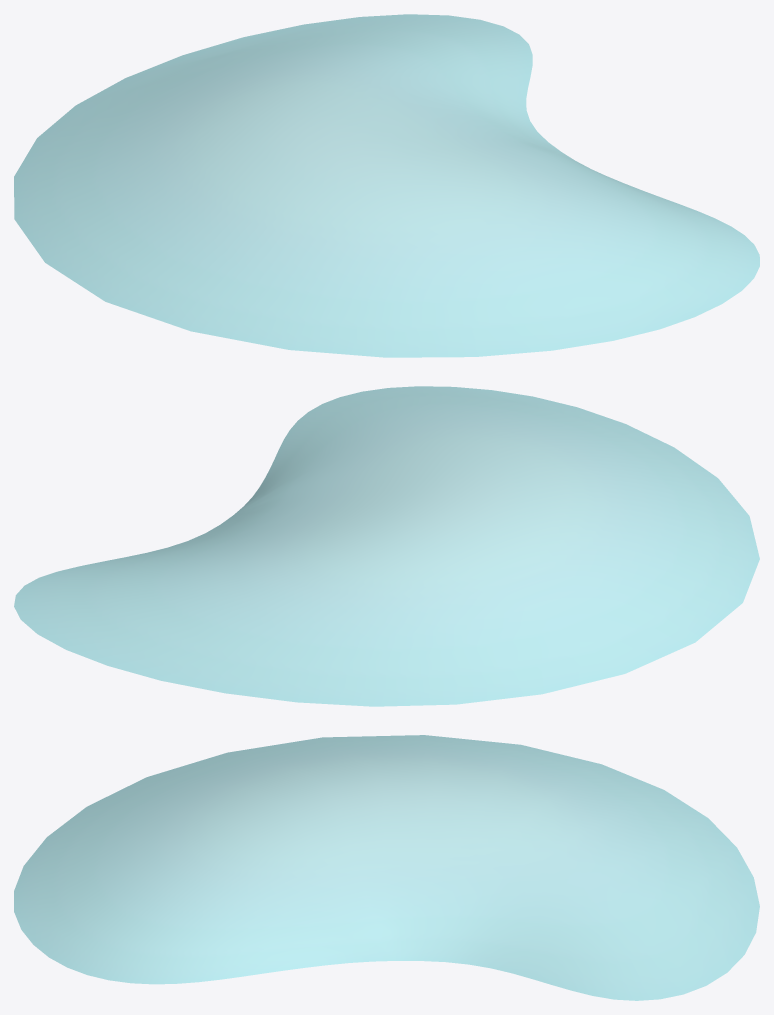
Rendered from snow_003.fbx.
3 renders of one model, top to bottom at view 1: azimuth 30°, elevation 25°; view 2: azimuth 150°, elevation 25°; view 3: azimuth 270°, elevation 25°, orthographic. The views are drawn at different scales.
Parts seen in each view (by area): view 1: snow_003; view 2: snow_003; view 3: snow_003.
Boxes of the visible parts, x1,y1,x2,y2 form: snow_003: (14, 14, 759, 357); snow_003: (14, 386, 759, 706); snow_003: (14, 735, 759, 1000).
Size of the model in its own units: 2160 by 2561 by 228.
